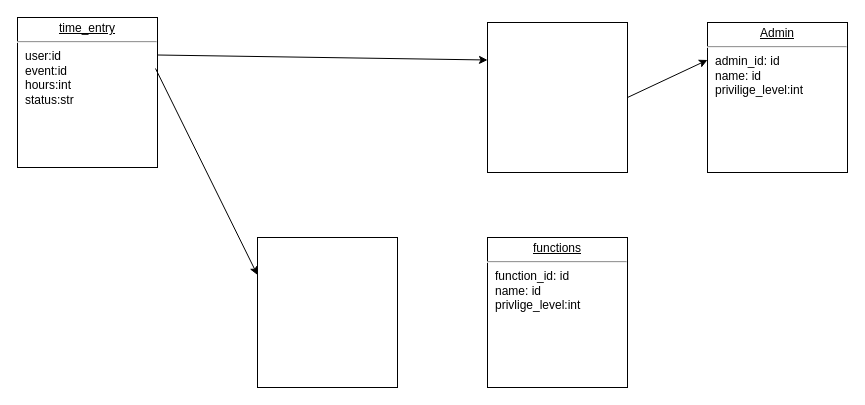
Some shapes in this 865 by 405 pixel diagram are drawn without their labels. Here are the shapes that lost their labels. From the top down, the box of each, then its label:
(486, 22, 628, 172): User user_id: id name: str admin: id
(256, 236, 398, 388): Event event_id Name:string
